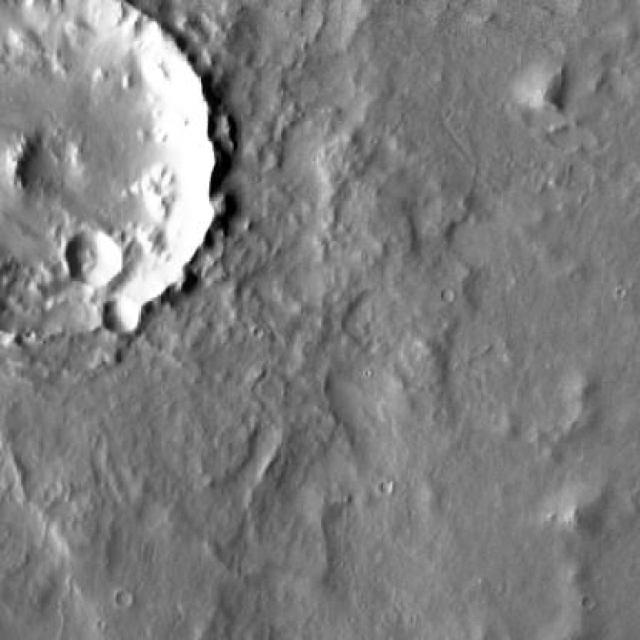crater: (0, 0, 235, 335), (67, 232, 122, 286), (104, 295, 144, 334), (115, 589, 132, 606)
